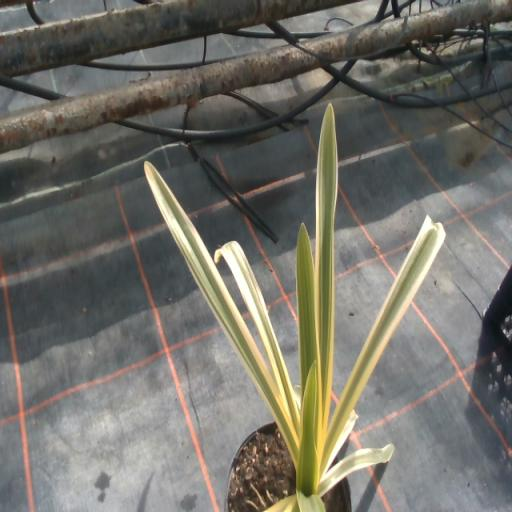Agapanthus-praecox: (145, 162, 298, 454), (326, 218, 445, 453), (215, 241, 298, 428), (315, 105, 337, 402), (320, 444, 394, 496), (297, 224, 318, 390), (297, 363, 317, 483), (334, 411, 357, 457), (297, 492, 325, 511)
